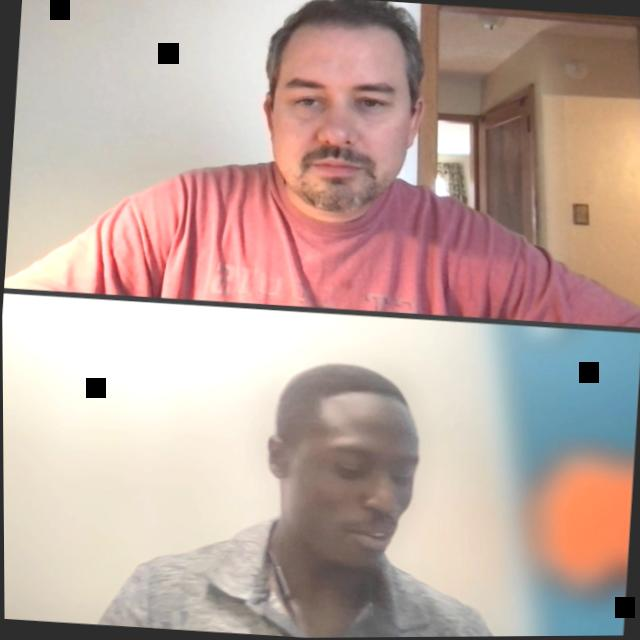NO-Mask: (256, 6, 426, 221), (258, 374, 425, 575)
